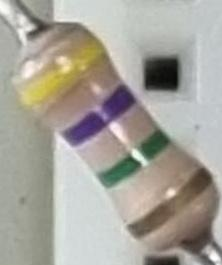Blue: (58, 79, 143, 156)
Green: (96, 126, 173, 191)
Side-Silver: (125, 166, 214, 242)
Yellow: (17, 32, 111, 114)
